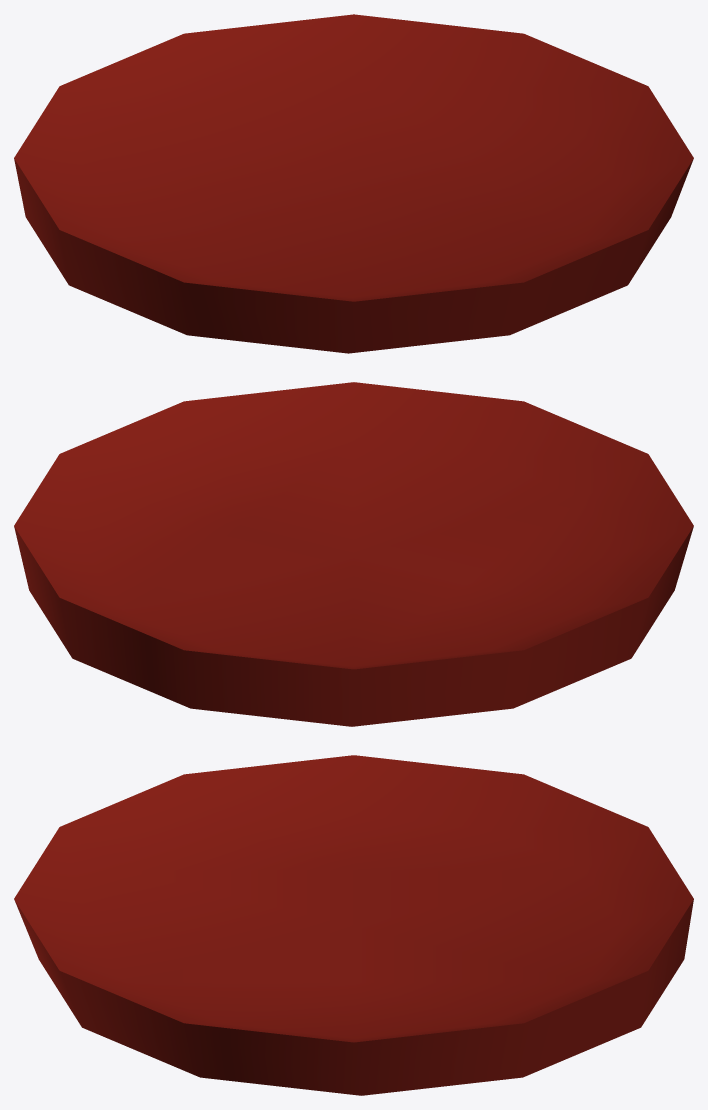
Rendered from Tależ do tortu_mały.fbx.
The picture shows the model from 3 angles, top to bottom: view 1: azimuth 30°, elevation 25°; view 2: azimuth 150°, elevation 25°; view 3: azimuth 270°, elevation 25°; orthographic projection.
Parts seen in each view (by area): view 1: Tależ do tortu_Medium; view 2: Tależ do tortu_Medium; view 3: Tależ do tortu_Medium.
Part boxes in pixels (x1=…): Tależ do tortu_Medium: x1=14, y1=14, x2=693, y2=353; Tależ do tortu_Medium: x1=14, y1=382, x2=693, y2=726; Tależ do tortu_Medium: x1=14, y1=755, x2=693, y2=1095.
Bounding box in the file's own units: 13.85 × 1.38 × 13.85.
